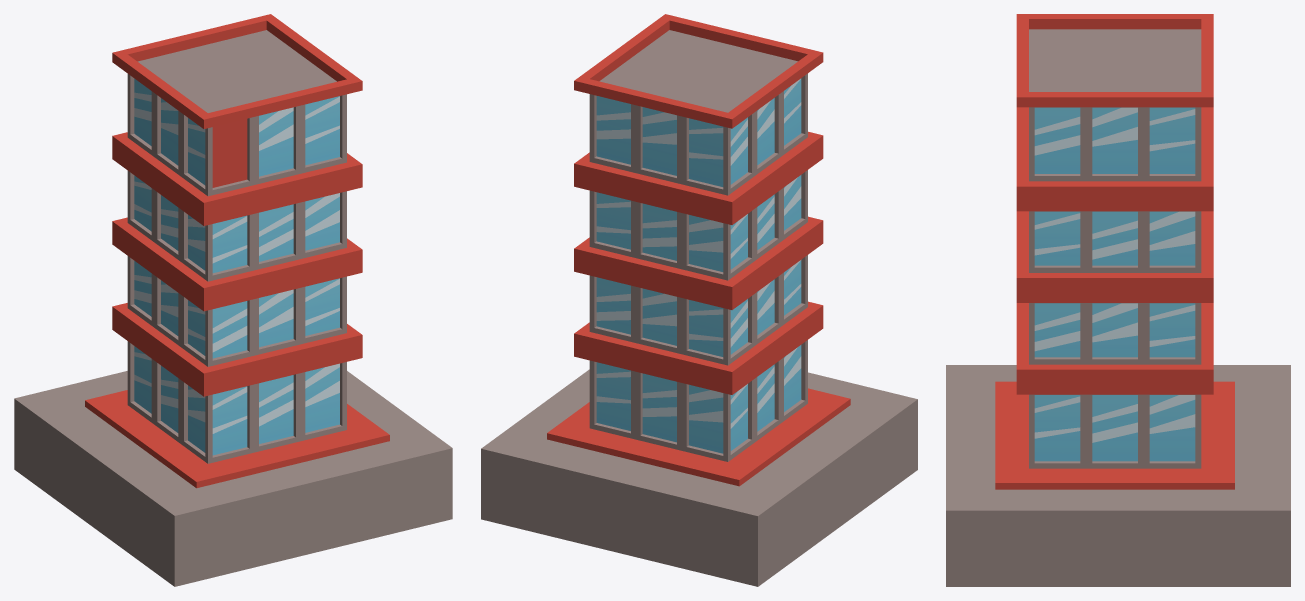
Rendered from Red_Office.fbx.
The picture shows the model from 3 angles, left to right: view 1: azimuth 30°, elevation 25°; view 2: azimuth 150°, elevation 25°; view 3: azimuth 270°, elevation 25°; orthographic projection. The views are drawn at different scales.
Parts seen in each view (by area): view 1: Red_Office; view 2: Red_Office; view 3: Red_Office.
Part boxes in pixels (<box>): Red_Office: <box>14,14,452,586</box>; Red_Office: <box>481,14,917,586</box>; Red_Office: <box>946,14,1290,586</box>.
Bounding box in the file's own units: 400 × 588 × 400.
